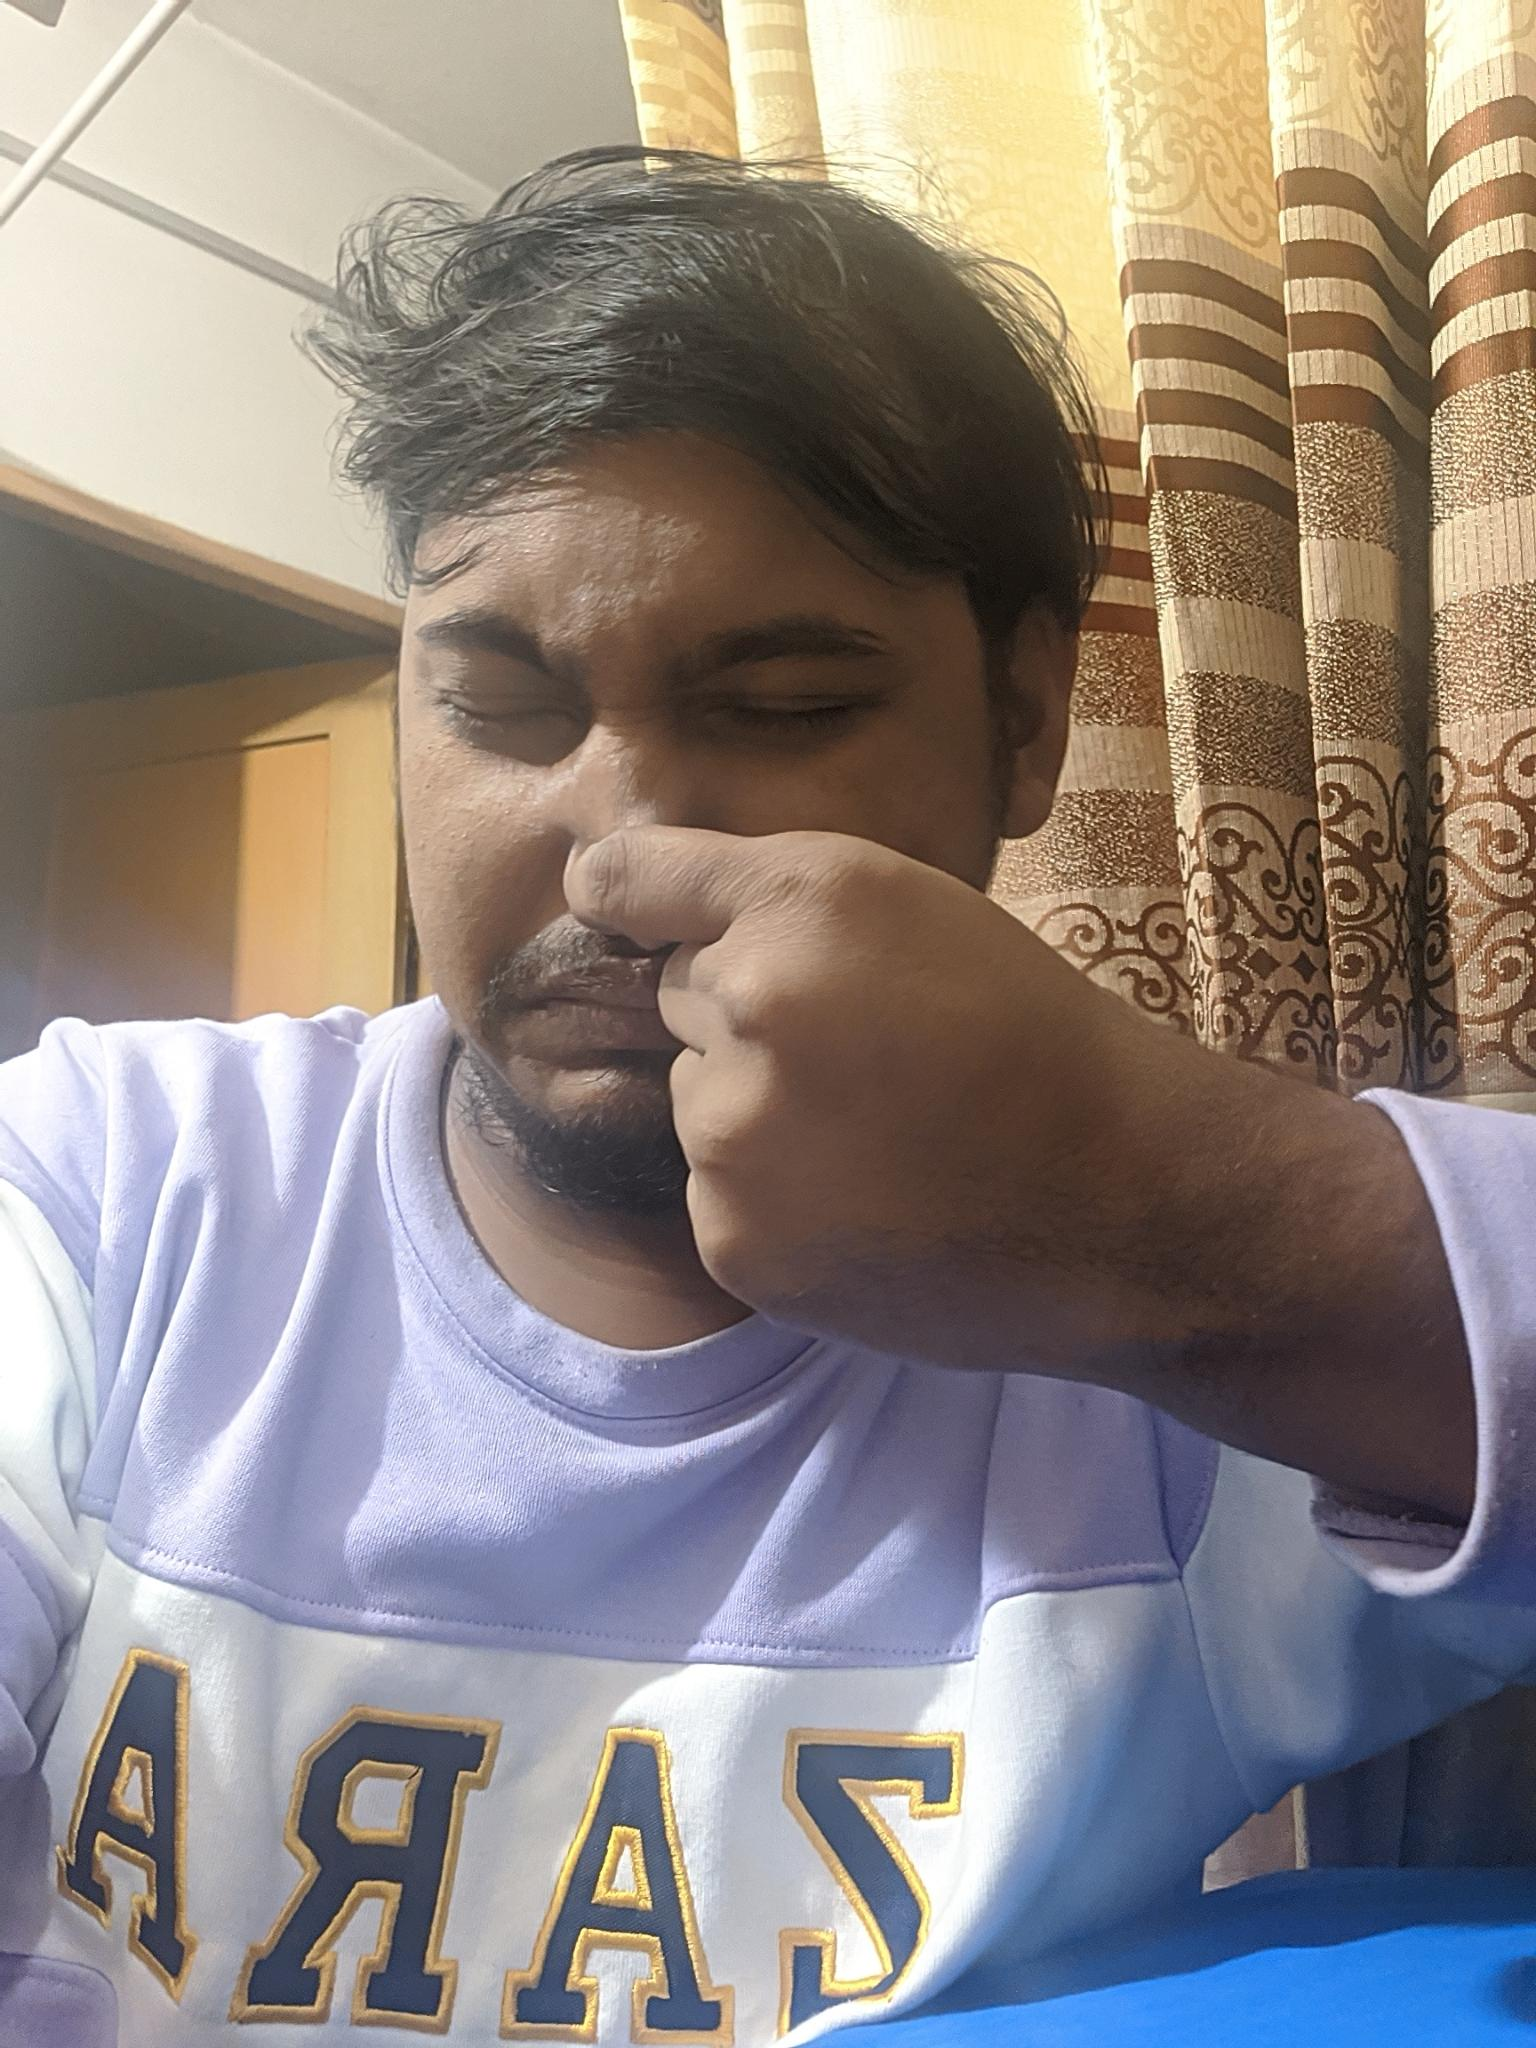Disgust: (336, 493, 1013, 1208)
